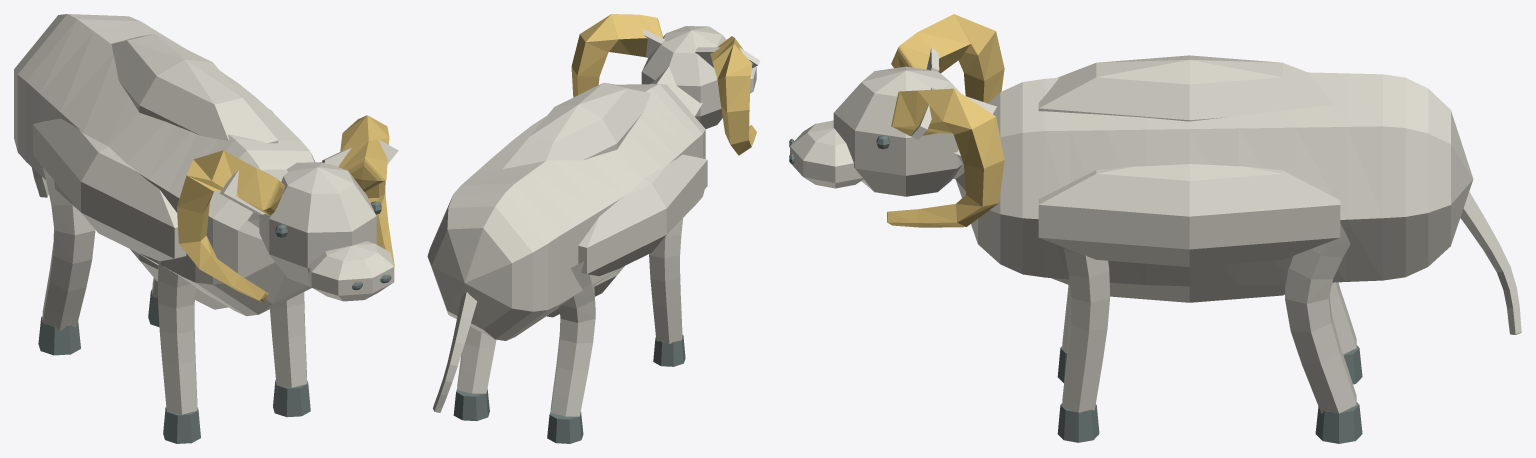
The model's file is ram.glb.
The picture shows the model from 3 angles, left to right: view 1: azimuth 30°, elevation 25°; view 2: azimuth 150°, elevation 25°; view 3: azimuth 270°, elevation 25°; orthographic projection. The views are drawn at different scales.
Parts seen in each view (by area): view 1: ram; view 2: ram; view 3: ram.
Part boxes in pixels (x1,y1,x2,y2): ram: [14, 14, 398, 443]; ram: [427, 14, 760, 443]; ram: [789, 14, 1521, 443].
Bounding box in the file's own units: 0.6379 × 0.97 × 1.82.
